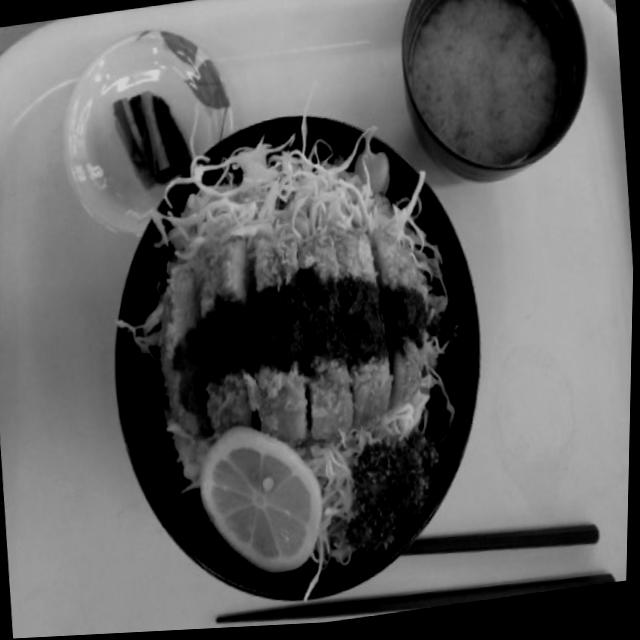汤锅炖物: (381, 0, 609, 196)
